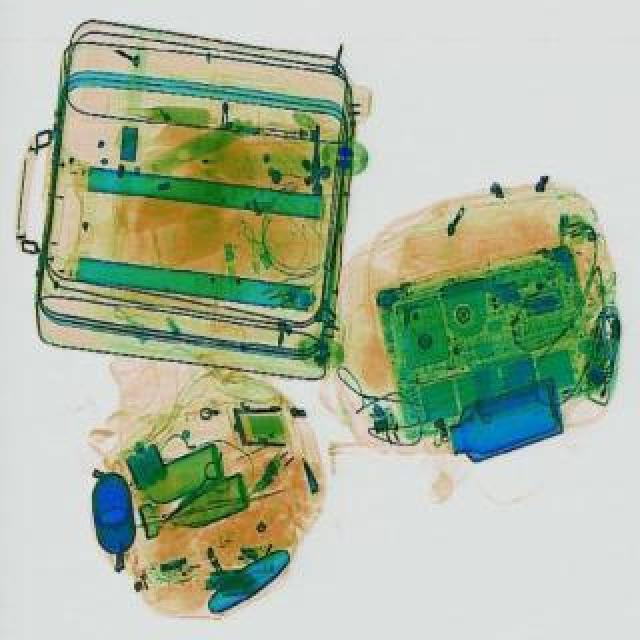pliers: (150, 456, 238, 536)
